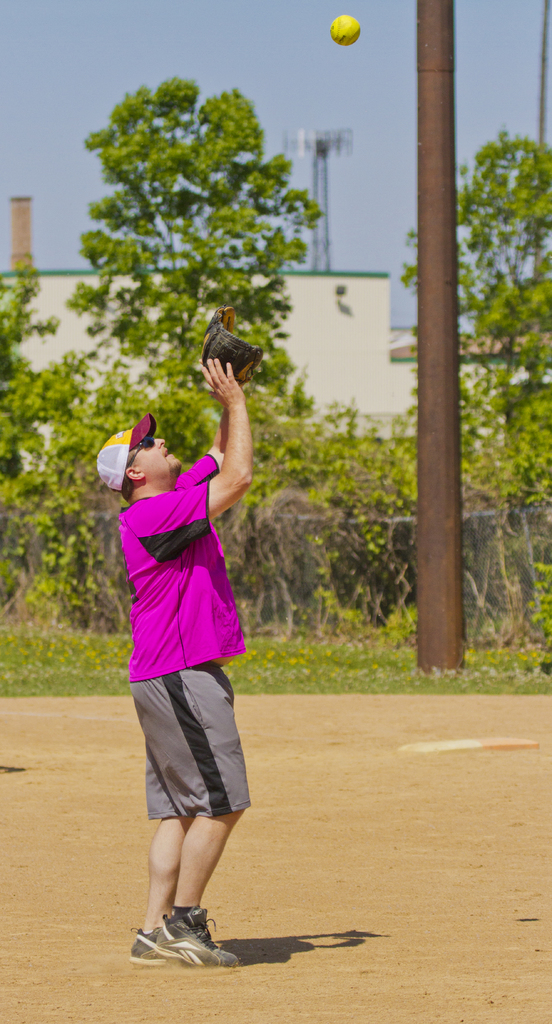Ball: (334, 15, 358, 45)
